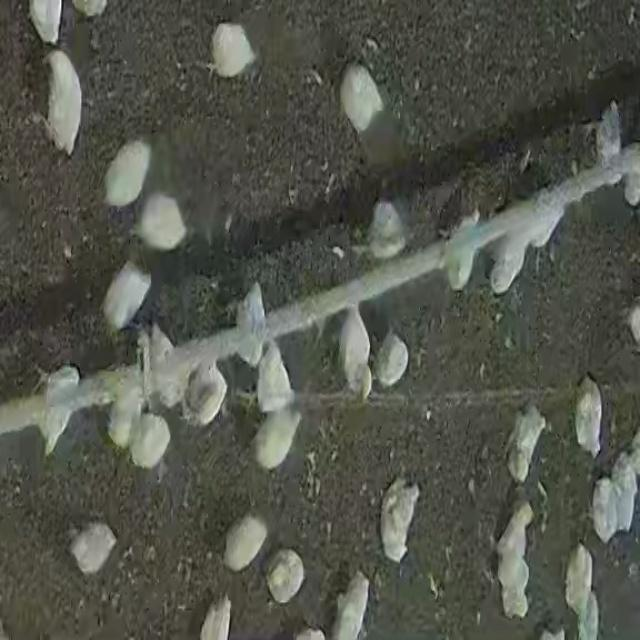chicken: (41, 46, 86, 160), (98, 256, 155, 332), (377, 473, 424, 565), (42, 364, 86, 457), (338, 303, 378, 402), (102, 133, 152, 211), (203, 17, 257, 86), (66, 516, 119, 586), (218, 509, 271, 572), (136, 190, 188, 254), (340, 62, 384, 135), (506, 404, 546, 484), (253, 407, 303, 471), (258, 547, 310, 606), (146, 322, 180, 410), (234, 281, 268, 367), (258, 340, 298, 413), (330, 572, 371, 640), (364, 200, 407, 262), (564, 544, 595, 627), (130, 411, 172, 471), (574, 375, 604, 459), (589, 94, 624, 162), (373, 330, 409, 390)
